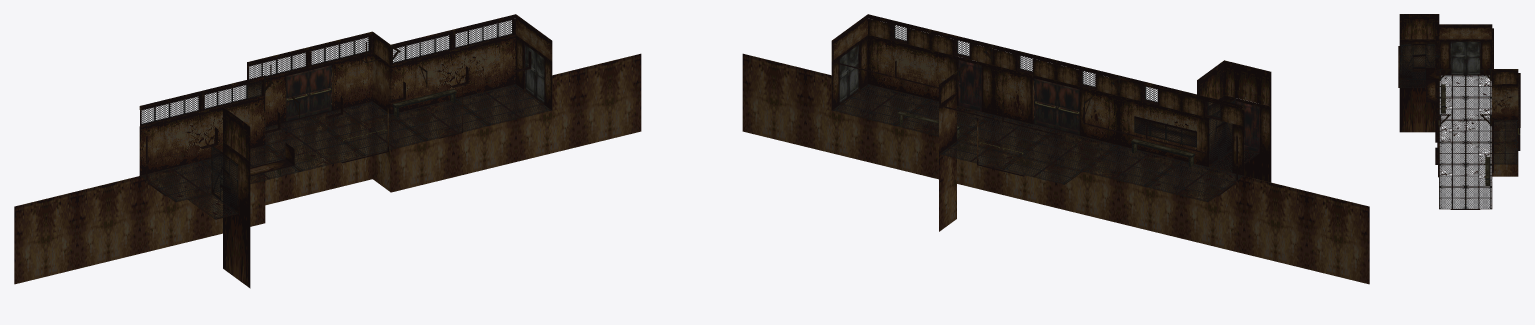
3 renders of one model, left to right at view 1: azimuth 30°, elevation 25°; view 2: azimuth 150°, elevation 25°; view 3: azimuth 270°, elevation 25°, orthographic. The views are drawn at different scales.
Parts seen in each view (by area): view 1: UNDWA1_H#1_m0, UNDWA1_H#8_m0, UNDWA1_H#6_m0, UNDWA2_H_m0, SC2FT5_m2, SC2FT5_m1, UNDWA1_H#4_m0, SC2FT2_m0, SC2FT2_m1, SC2FT5_m0, NULL1_BA_m0, DOOR9_HI#1_m0 (+9 smaller); view 2: UNDWA1_H_m0, UNDWA1_H#3_m0, UNDWA1_H#5_m0, UNDWA1_H#2_m0, SC2FT5_m3, UNDWA1_H#7_m0, SC2FT5_m0, SC2FT2_m0, SC2FT2_m1, SC2FT5_m4, NULL1_BA_m0, SC2FT5_m1 (+12 smaller); view 3: NULL1_BA_m0, SC2FT5_m1, SC2FT2_m0, SC2FT5_m0, DOOR9_HI_m0, UNDWA2_H_m0, SC2FT5_m4, CH_HIDE#1_m0, CH_HIDE_m0, 0WIN_HID#2_m0.
Part boxes in pixels (<box>): UNDWA1_H#1_m0: <box>14,176,139,284</box>; UNDWA1_H#8_m0: <box>390,85,515,192</box>; UNDWA1_H#6_m0: <box>516,53,641,161</box>; UNDWA2_H_m0: <box>265,102,390,205</box>; SC2FT5_m2: <box>139,62,333,175</box>; SC2FT5_m1: <box>188,36,390,219</box>; UNDWA1_H#4_m0: <box>139,146,265,253</box>; SC2FT2_m0: <box>328,84,551,155</box>; SC2FT2_m1: <box>390,14,515,114</box>; SC2FT5_m0: <box>139,31,390,202</box>; NULL1_BA_m0: <box>223,107,250,288</box>; DOOR9_HI#1_m0: <box>516,14,552,110</box>; UNDWA1_H_m0: <box>1244,176,1369,284</box>; UNDWA1_H#3_m0: <box>1118,146,1243,253</box>; UNDWA1_H#5_m0: <box>742,53,867,161</box>; UNDWA1_H#2_m0: <box>993,115,1118,222</box>; SC2FT5_m3: <box>993,45,1235,166</box>; UNDWA1_H#7_m0: <box>868,85,993,192</box>; SC2FT5_m0: <box>939,71,1244,202</box>; SC2FT2_m0: <box>832,84,1055,155</box>; SC2FT2_m1: <box>868,14,993,114</box>; SC2FT5_m4: <box>1118,75,1244,175</box>; NULL1_BA_m0: <box>1197,60,1271,182</box>; SC2FT5_m1: <box>939,75,1259,184</box>; NULL1_BA_m0: <box>1399,14,1439,132</box>; SC2FT5_m1: <box>1399,43,1518,164</box>; SC2FT2_m0: <box>1439,142,1492,209</box>; SC2FT5_m0: <box>1439,69,1518,142</box>; DOOR9_HI_m0: <box>1439,24,1492,75</box>; UNDWA2_H_m0: <box>1492,120,1518,176</box>; SC2FT5_m4: <box>1426,68,1439,102</box>; CH_HIDE#1_m0: <box>1485,156,1490,186</box>; CH_HIDE_m0: <box>1441,84,1445,113</box>; 0WIN_HID#2_m0: <box>1518,95,1520,127</box>.
Size of the model in its own units: 32 by 7.91 by 7.4.
Materials: 10 (10 with a texture image).
